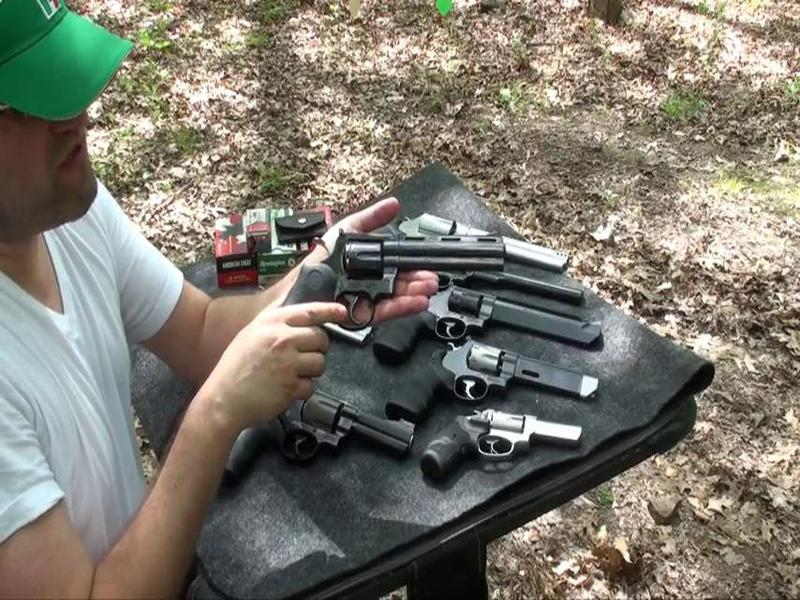Revolver: (279, 221, 530, 346)
